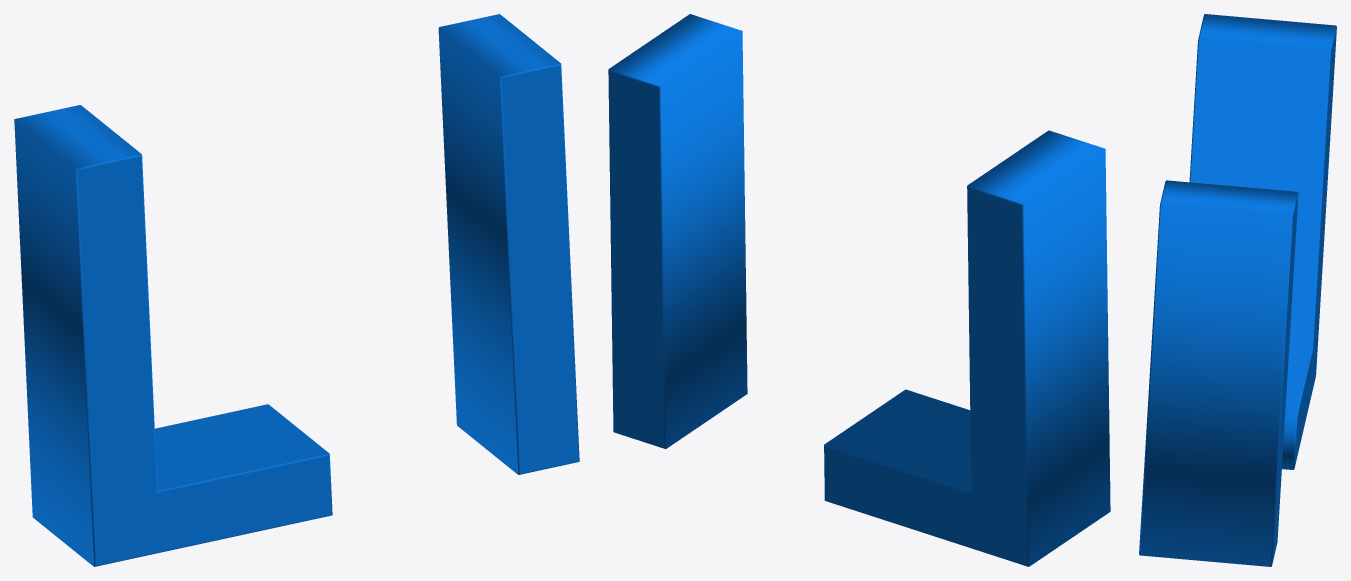
Rendered from ObjectL.fbx.
3 views of the same model, side by side, from view 1: azimuth 30°, elevation 25°; view 2: azimuth 150°, elevation 25°; view 3: azimuth 270°, elevation 25° (orthographic). The views are drawn at different scales.
Parts seen in each view (by area): view 1: Text; view 2: Text; view 3: Text.
Boxes of the visible parts, box(x1,y1,x2,y2) form: Text: box(14, 14, 579, 566); Text: box(608, 14, 1110, 566); Text: box(1139, 14, 1336, 566).
Size of the model in its own units: 226 by 184 by 90.72.
